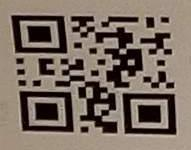qrcode: (11, 16, 178, 136)
